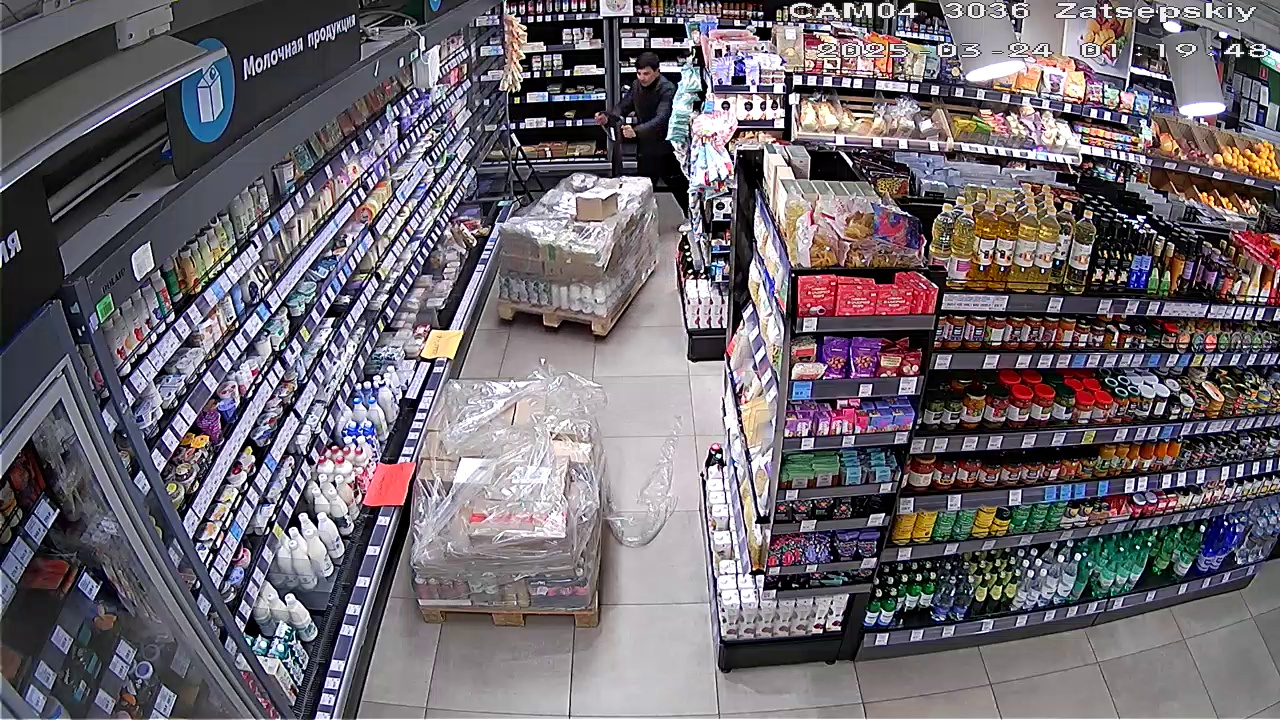Human: (591, 54, 690, 175)
pallet: (412, 371, 607, 630), (490, 166, 653, 334)
